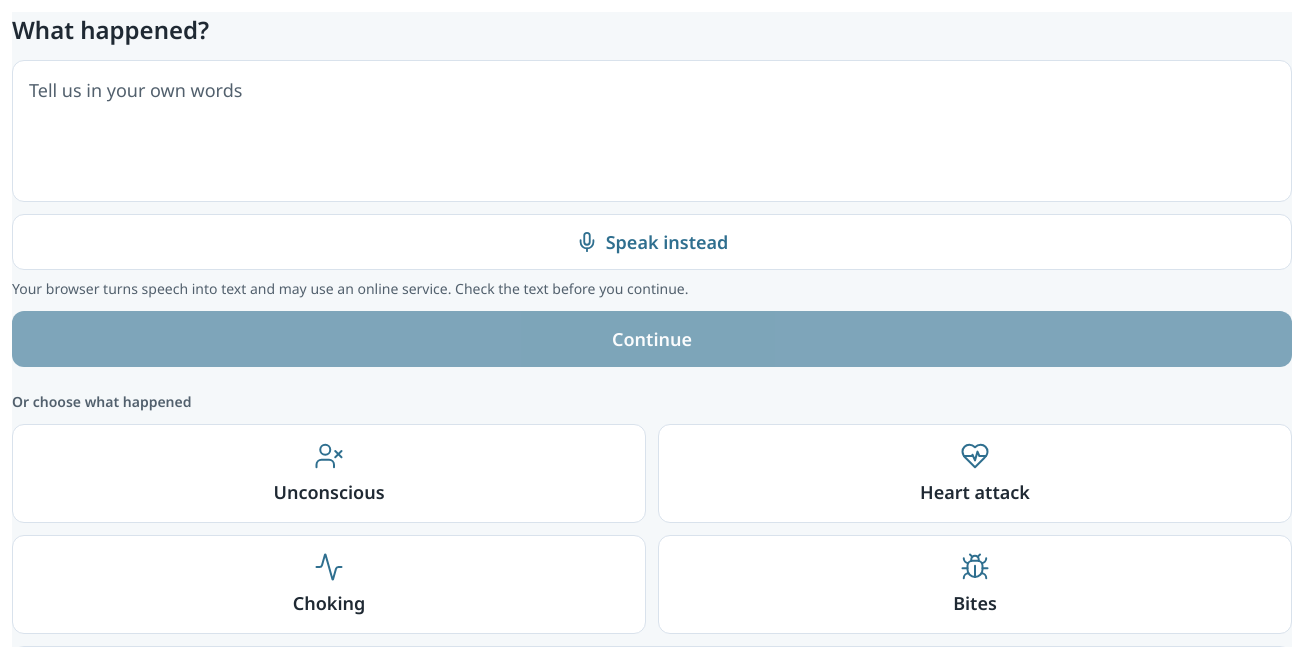
it: speech input › hears Marathi and switches the recogniser to Marathi without being told
Click the button "Speak instead" at (652, 242), box [12,214,1292,270]
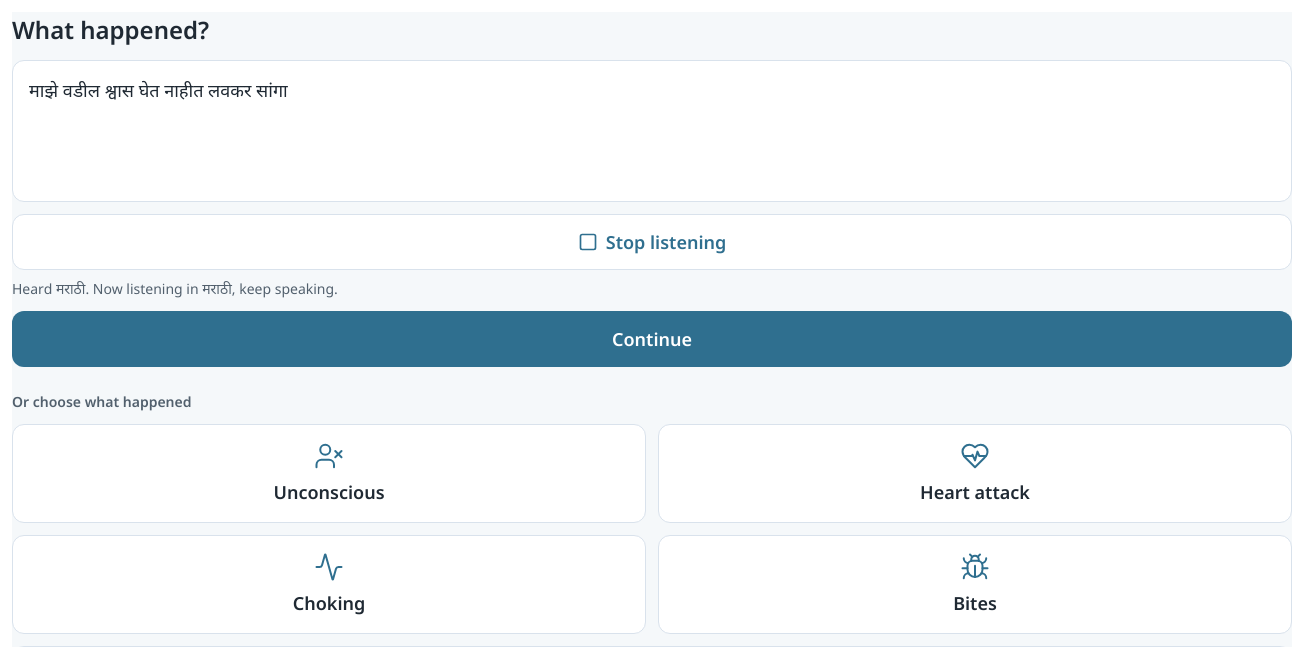
Result: the message shows "Heard मराठी" at [12,279,338,298]
Result: the text box holds "माझे वडील श्वास घेत नाहीत लवकर सांगा" at [12,60,1292,202]
